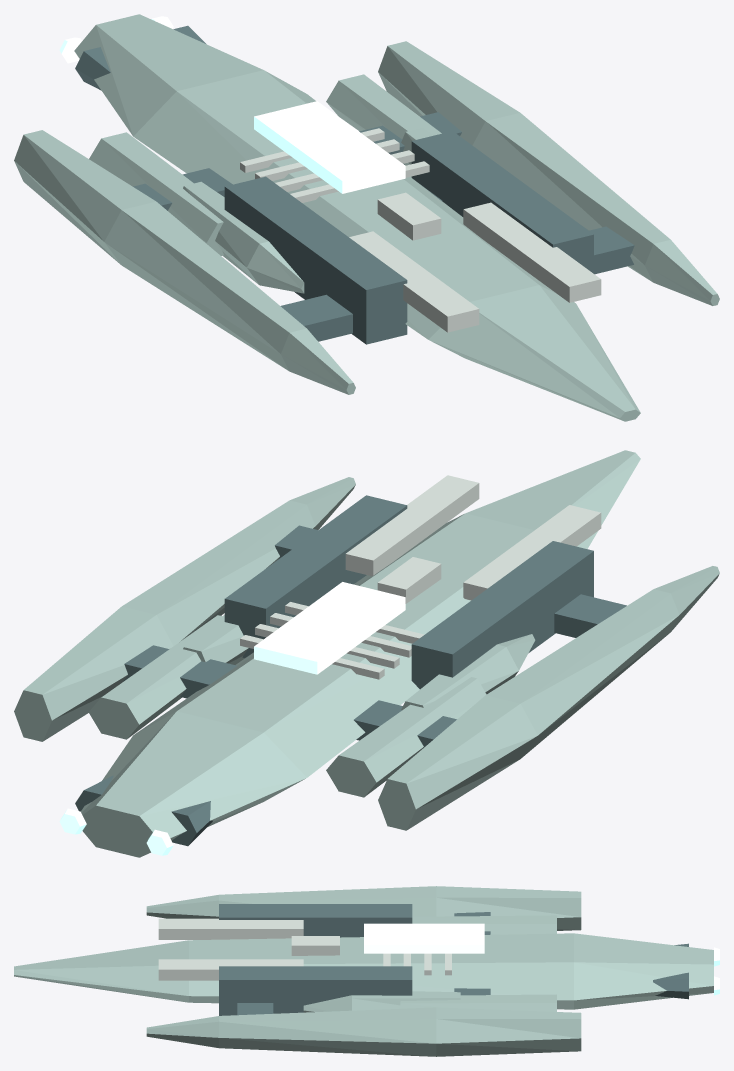
3 views of the same model, one above another, from view 1: azimuth 30°, elevation 25°; view 2: azimuth 150°, elevation 25°; view 3: azimuth 270°, elevation 25° (orthographic). The views are drawn at different scales.
Bounding box in the file's own units: 5.1 × 1 × 10.53.
